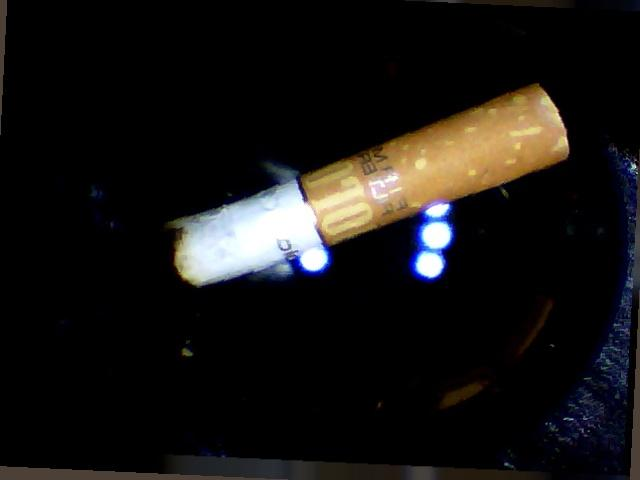megot: (154, 58, 578, 309)
